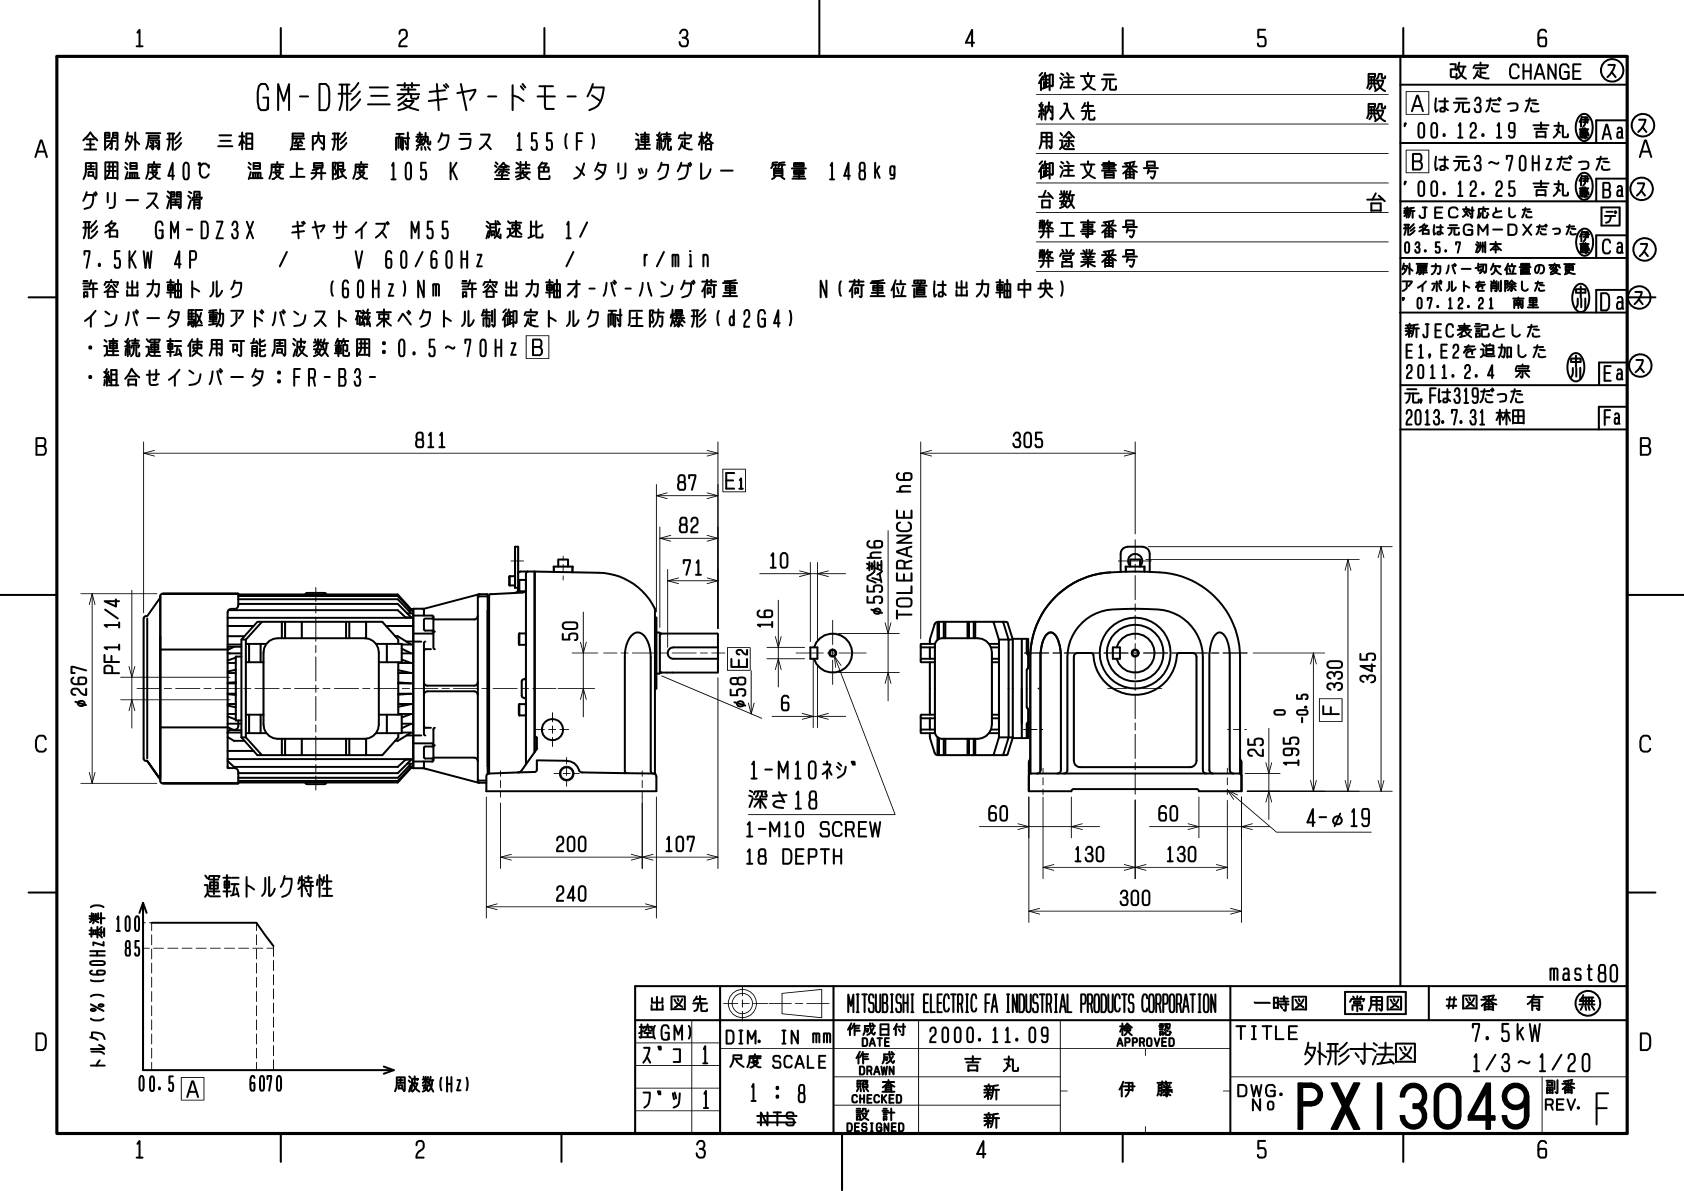GM_D_制御屋内_三相_脚: (70, 421, 1397, 973)
